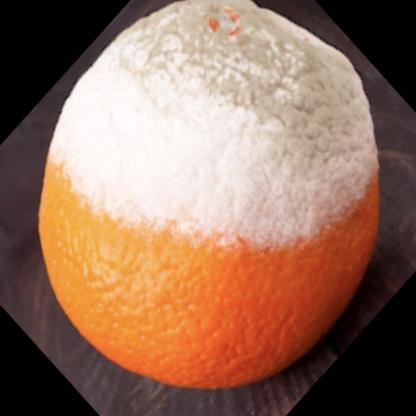rotten: (42, 1, 381, 383)
